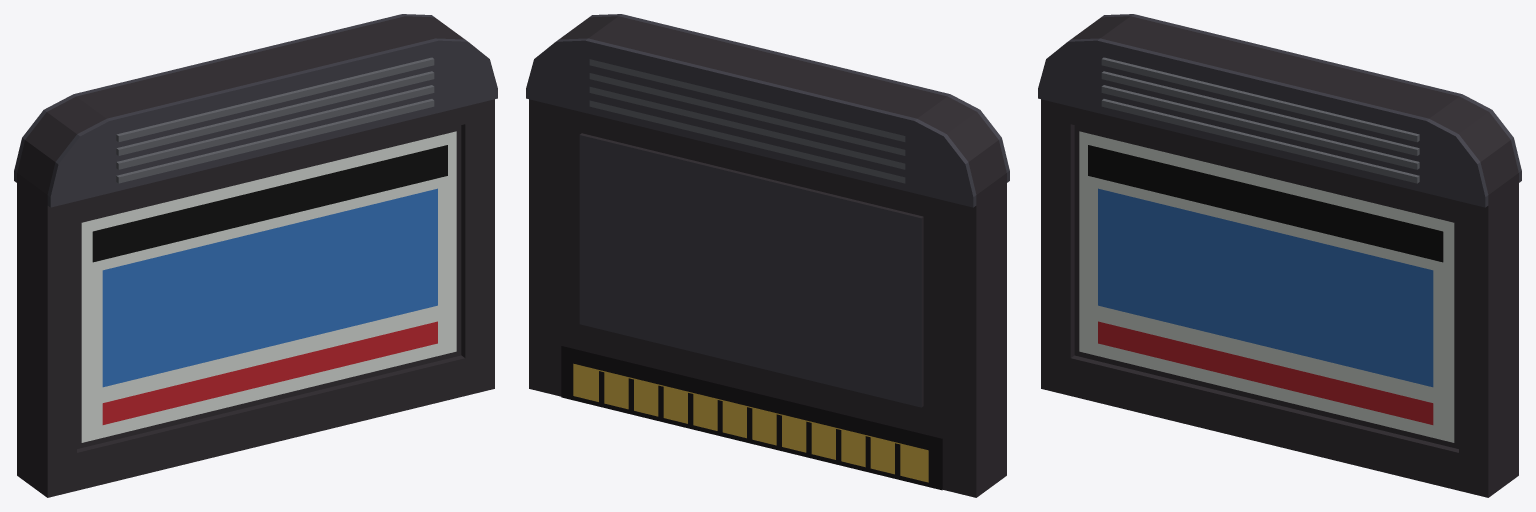
File: gamegear.obj
3 renders of one model, left to right at view 1: azimuth 30°, elevation 25°; view 2: azimuth 150°, elevation 25°; view 3: azimuth 330°, elevation 25°, orthographic.
Parts seen in each view (by area): view 1: gamegear; view 2: gamegear; view 3: gamegear.
Boxes of the visible parts, <box> form: gamegear: <box>14,14,497,497</box>; gamegear: <box>526,14,1009,497</box>; gamegear: <box>1038,14,1521,497</box>.
Bounding box in the file's own units: 6.8 × 5.3 × 1.08.
